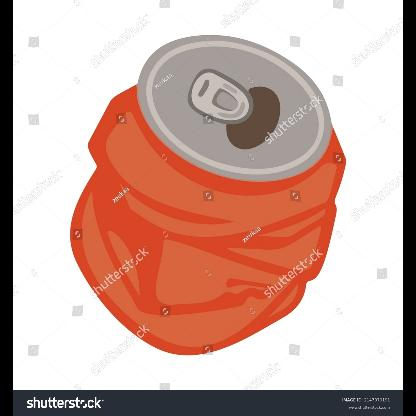Lid_Open: (174, 68, 306, 160)
